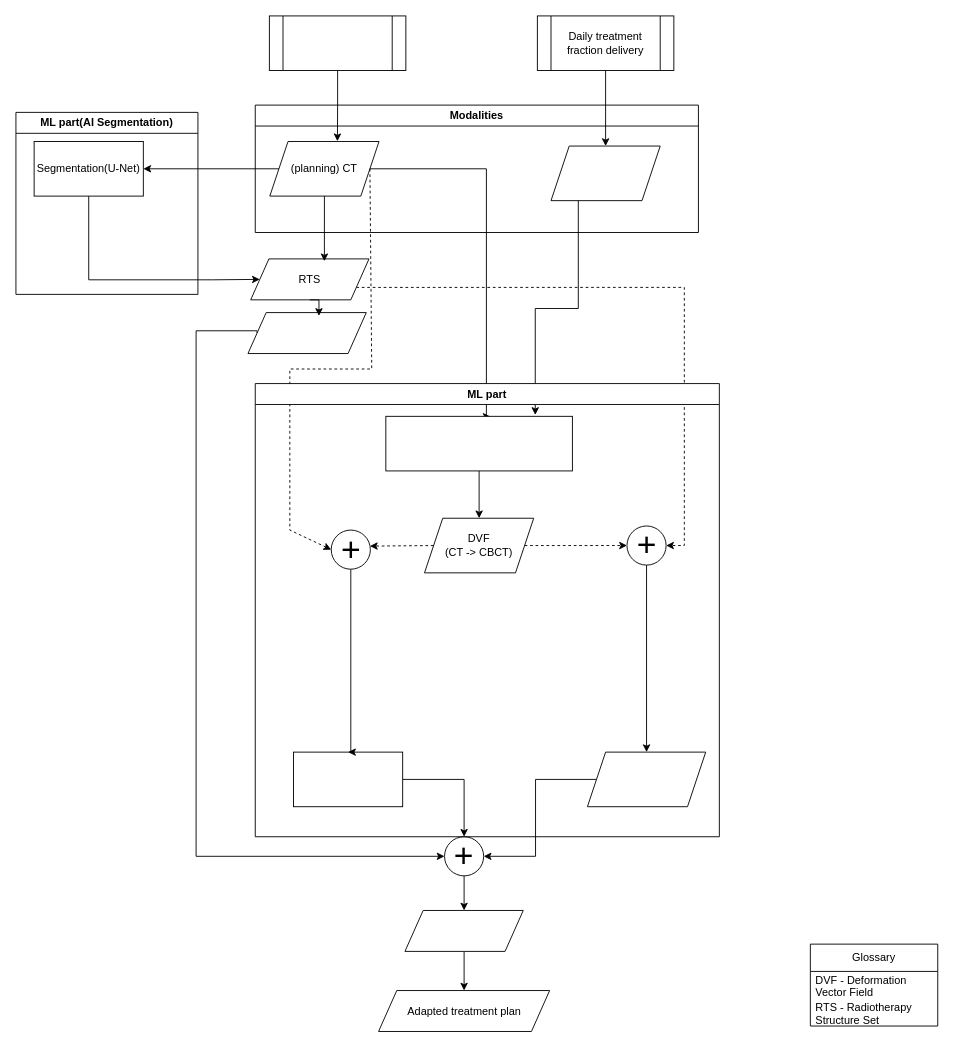
This 954x1047 diagram has some shape labels left out. The shapes that lost their labels are listed below. From the top down, each one's centre as x and y in pixels, then its label:
At pixel 337 43: "Treatment planning".
At pixel 605 173: "CBCT".
At pixel 306 333: "Treatment plan".
At pixel 478 443: "Trained Deformable Registration Model (CT -> CBCT)".
At pixel 348 779: "Daily (deformed) CT".
At pixel 646 779: "(DIR-based) propagated RTS".
At pixel 463 930: "treatment plan reoptimisation".
